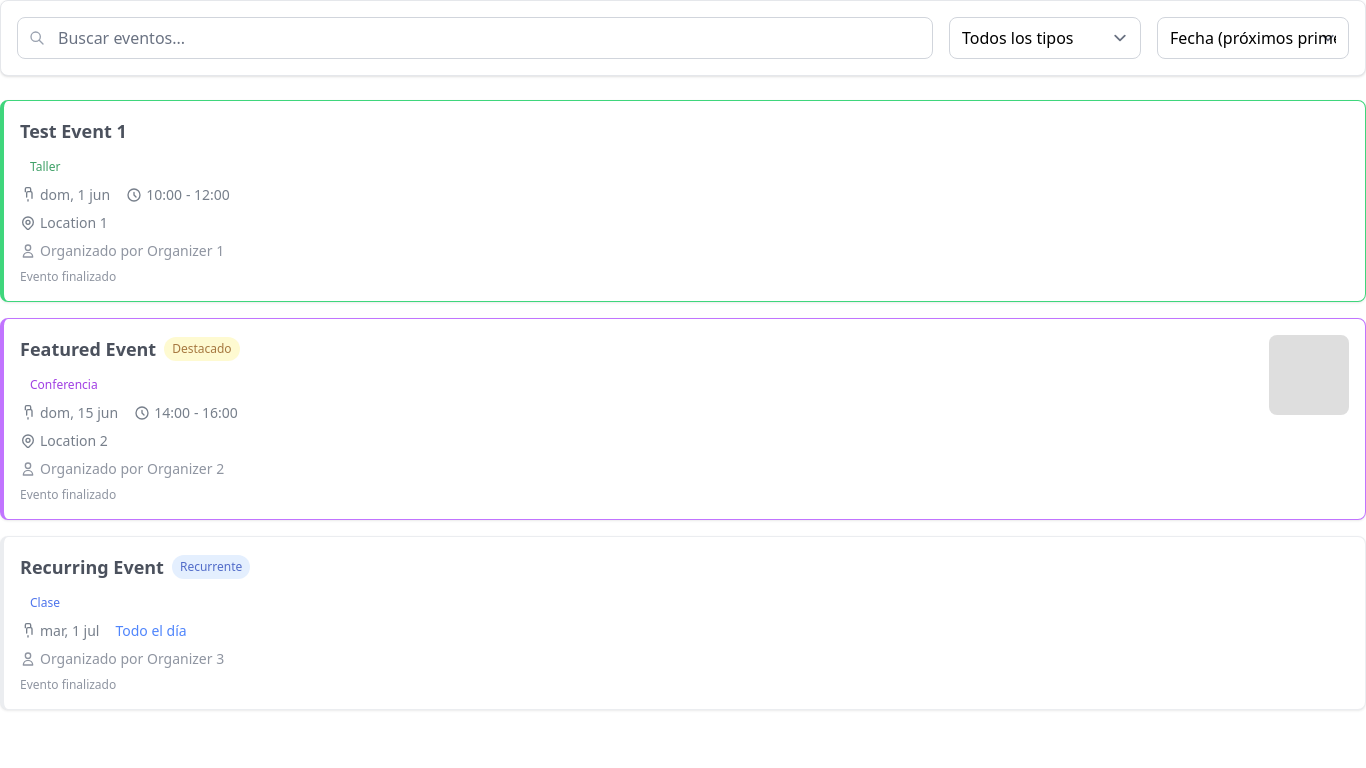
Test: EventList › Search and Filter › should filter events by search term
Type "Featured" into the field with placeholder "Buscar eventos..." at (475, 38), box [17, 17, 933, 59]
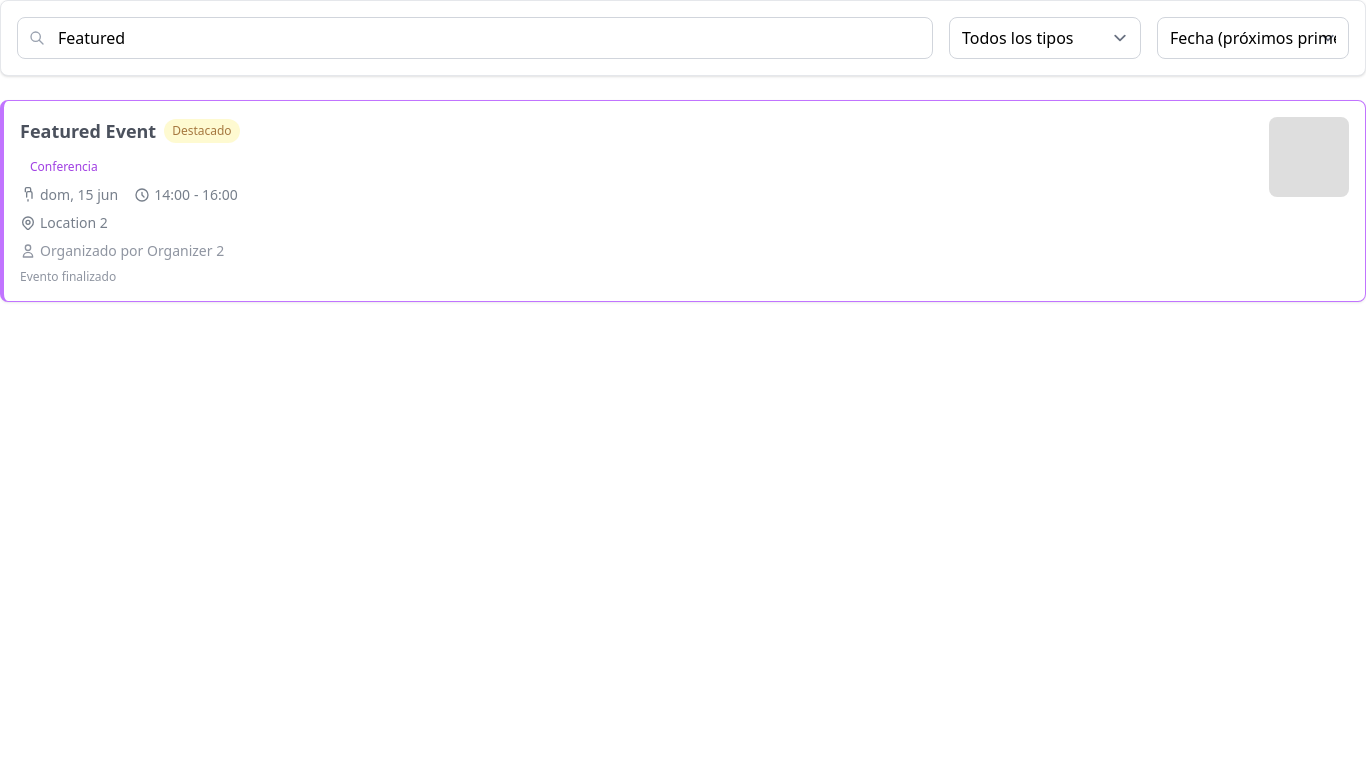
Result: the heading "Featured Event" is shown at [20, 117, 156, 145]
Result: the button "Test Event 1" is gone
